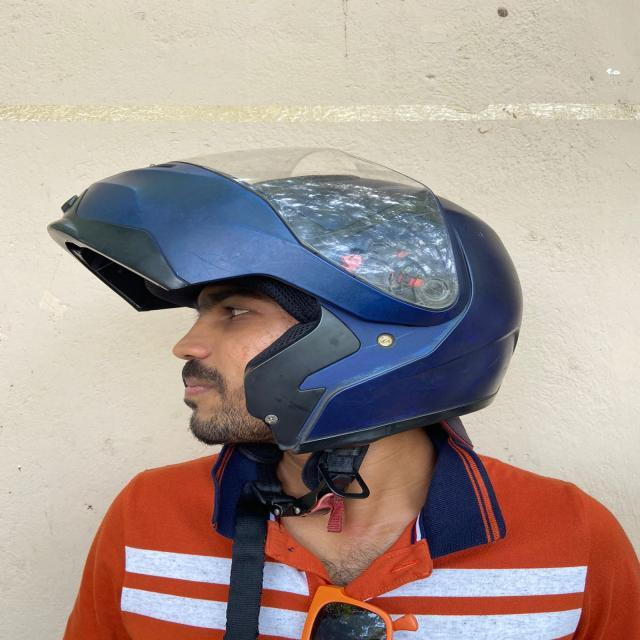helmet: (39, 99, 585, 491)
